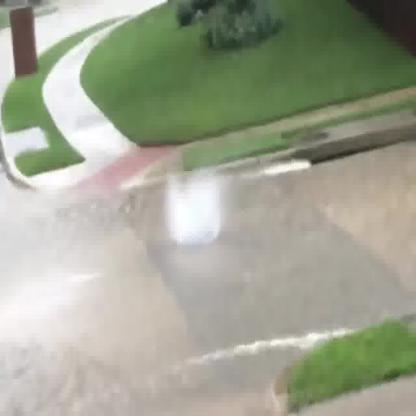drainage overflow-repair-: (165, 171, 221, 247)
